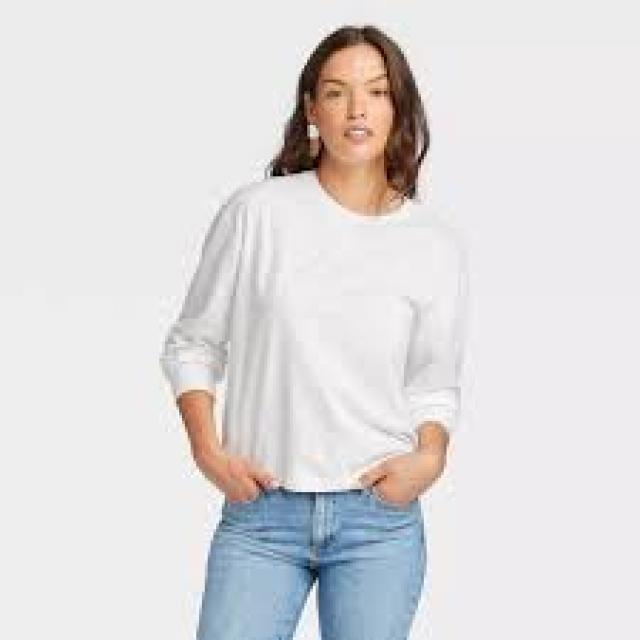plain: (166, 168, 480, 498)
